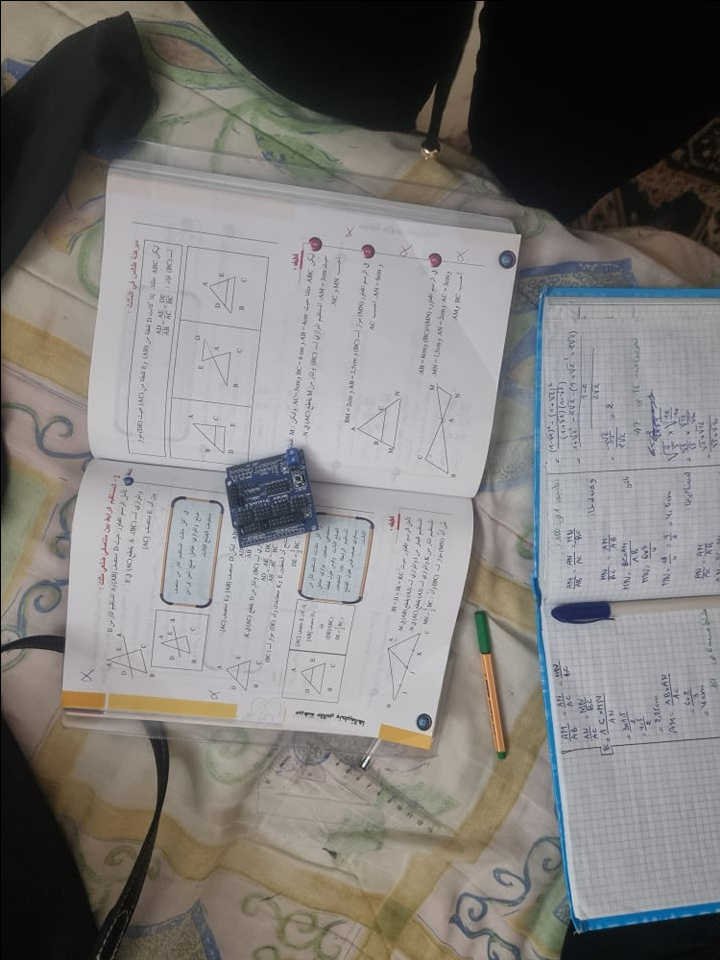5V EXPANSION: (223, 444, 317, 548)
